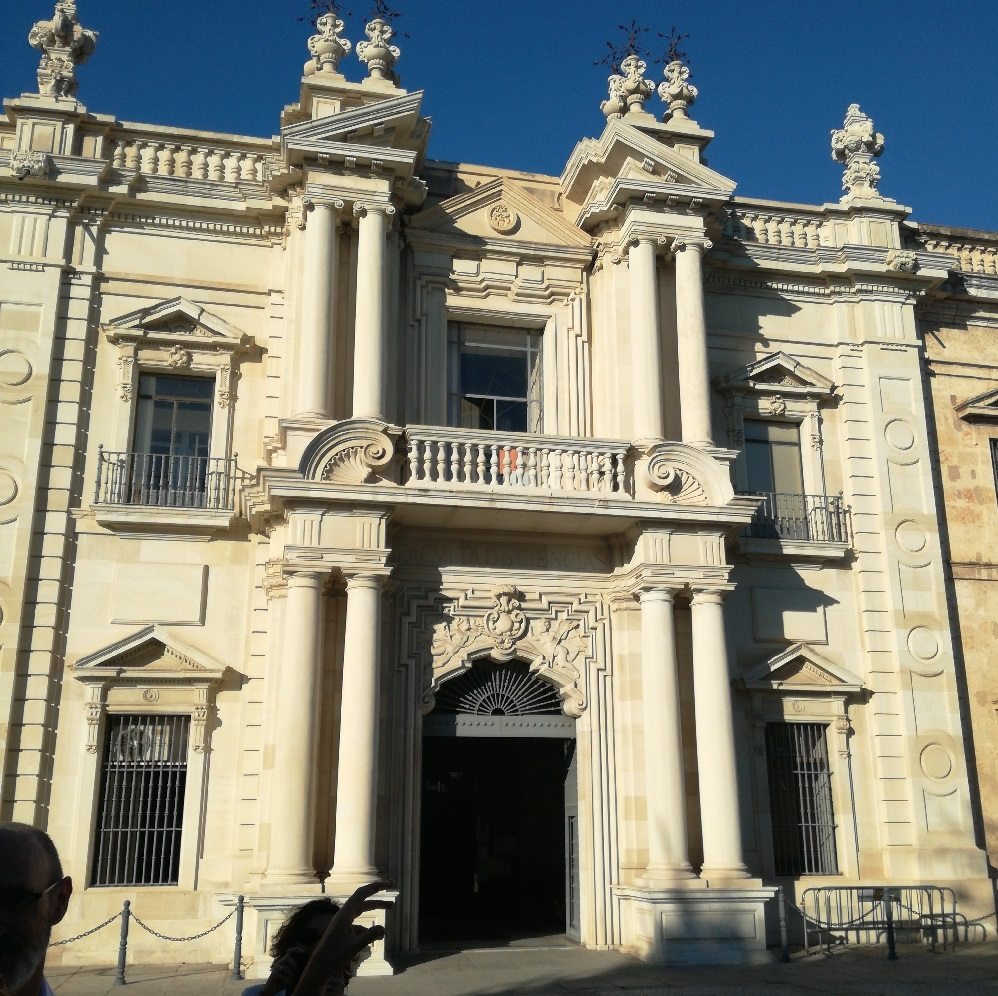fronton: (398, 174, 596, 256), (66, 624, 230, 687), (99, 297, 251, 356), (733, 639, 866, 702), (715, 349, 839, 405)
fronton-partido: (279, 90, 747, 204), (293, 416, 739, 529)
vano-adintelado: (76, 696, 218, 887), (432, 297, 554, 494), (107, 352, 235, 508), (748, 702, 856, 876), (725, 402, 829, 539)
